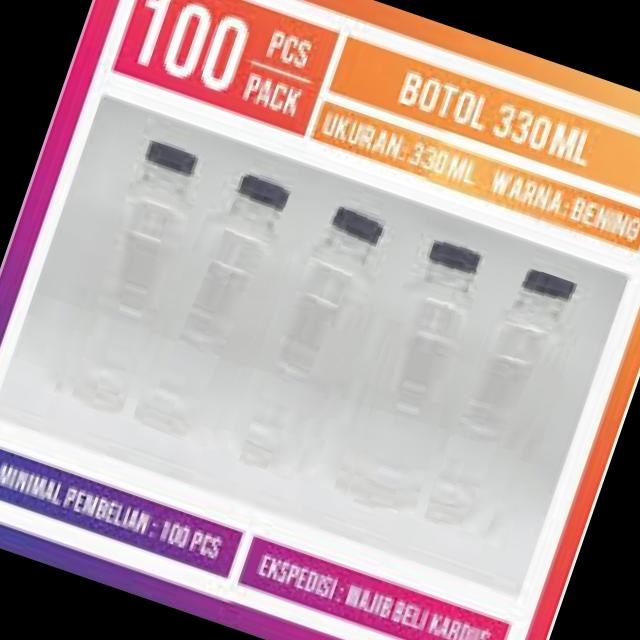plastic bottle: (131, 160, 317, 454), (419, 261, 597, 559), (330, 228, 510, 522), (237, 196, 407, 490), (40, 127, 210, 419)
